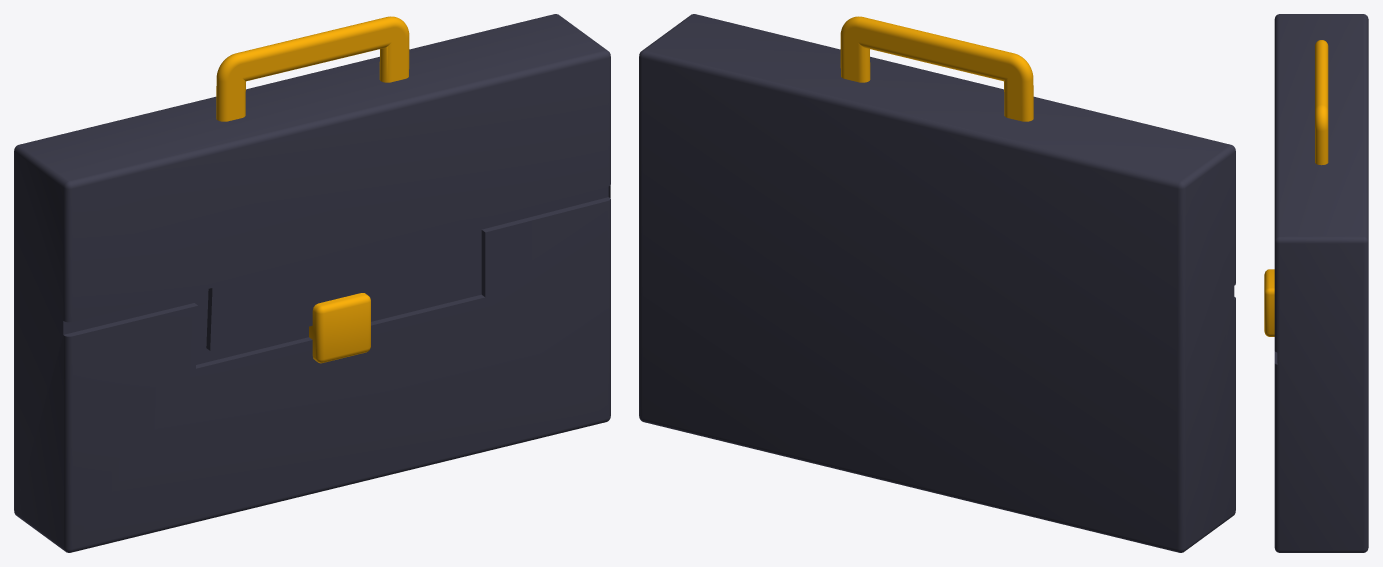
Rendered from portfolio.gltf.
3 views of the same model, side by side, from view 1: azimuth 30°, elevation 25°; view 2: azimuth 150°, elevation 25°; view 3: azimuth 270°, elevation 25° (orthographic). The views are drawn at different scales.
Parts seen in each view (by area): view 1: Cube (×2), Sweep (×2); view 2: Cube, Sweep; view 3: Cube (×2), Sweep.
Boxes of the visible parts, x1,y1,x2,y2 form: Cube (×2): (14, 14, 610, 552); Sweep (×2): (63, 16, 610, 368); Cube: (639, 14, 1235, 552); Sweep: (840, 16, 1033, 121); Cube (×2): (1264, 14, 1368, 552); Sweep: (1315, 40, 1328, 165).
Bounding box in the file's own units: 200 × 152 × 38.82.
